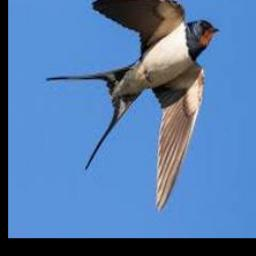Swallow: (46, 0, 219, 209)
